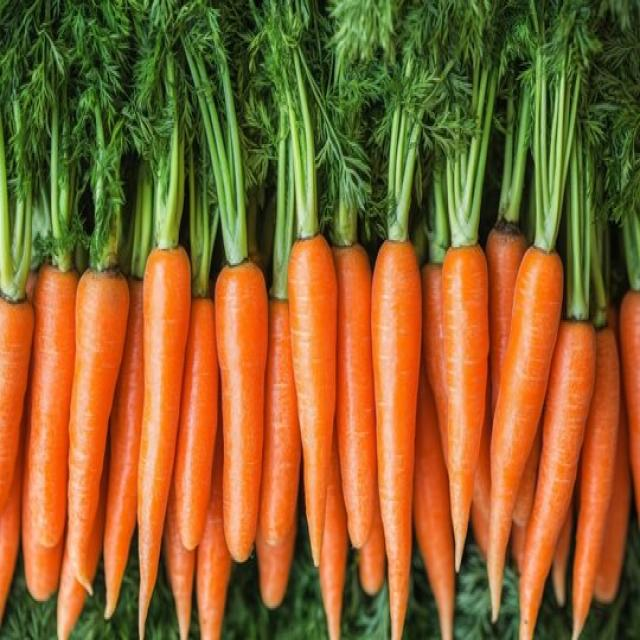Carrot: (179, 9, 269, 563), (54, 101, 130, 638), (135, 59, 191, 638), (20, 76, 80, 601), (370, 105, 423, 638), (286, 43, 336, 567), (0, 96, 34, 638)
